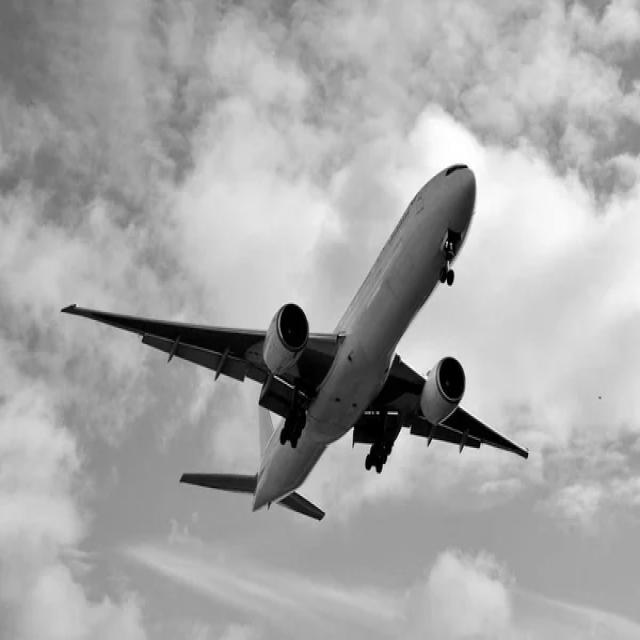Aircraft: (60, 136, 538, 547)
